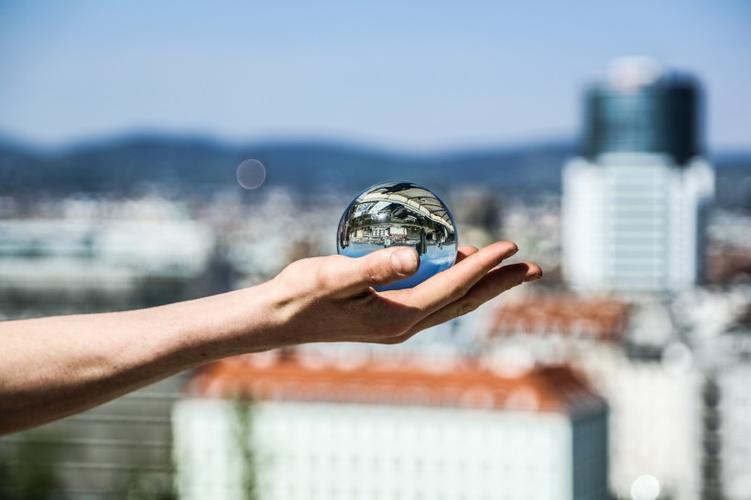no-phone: (263, 179, 545, 353)
